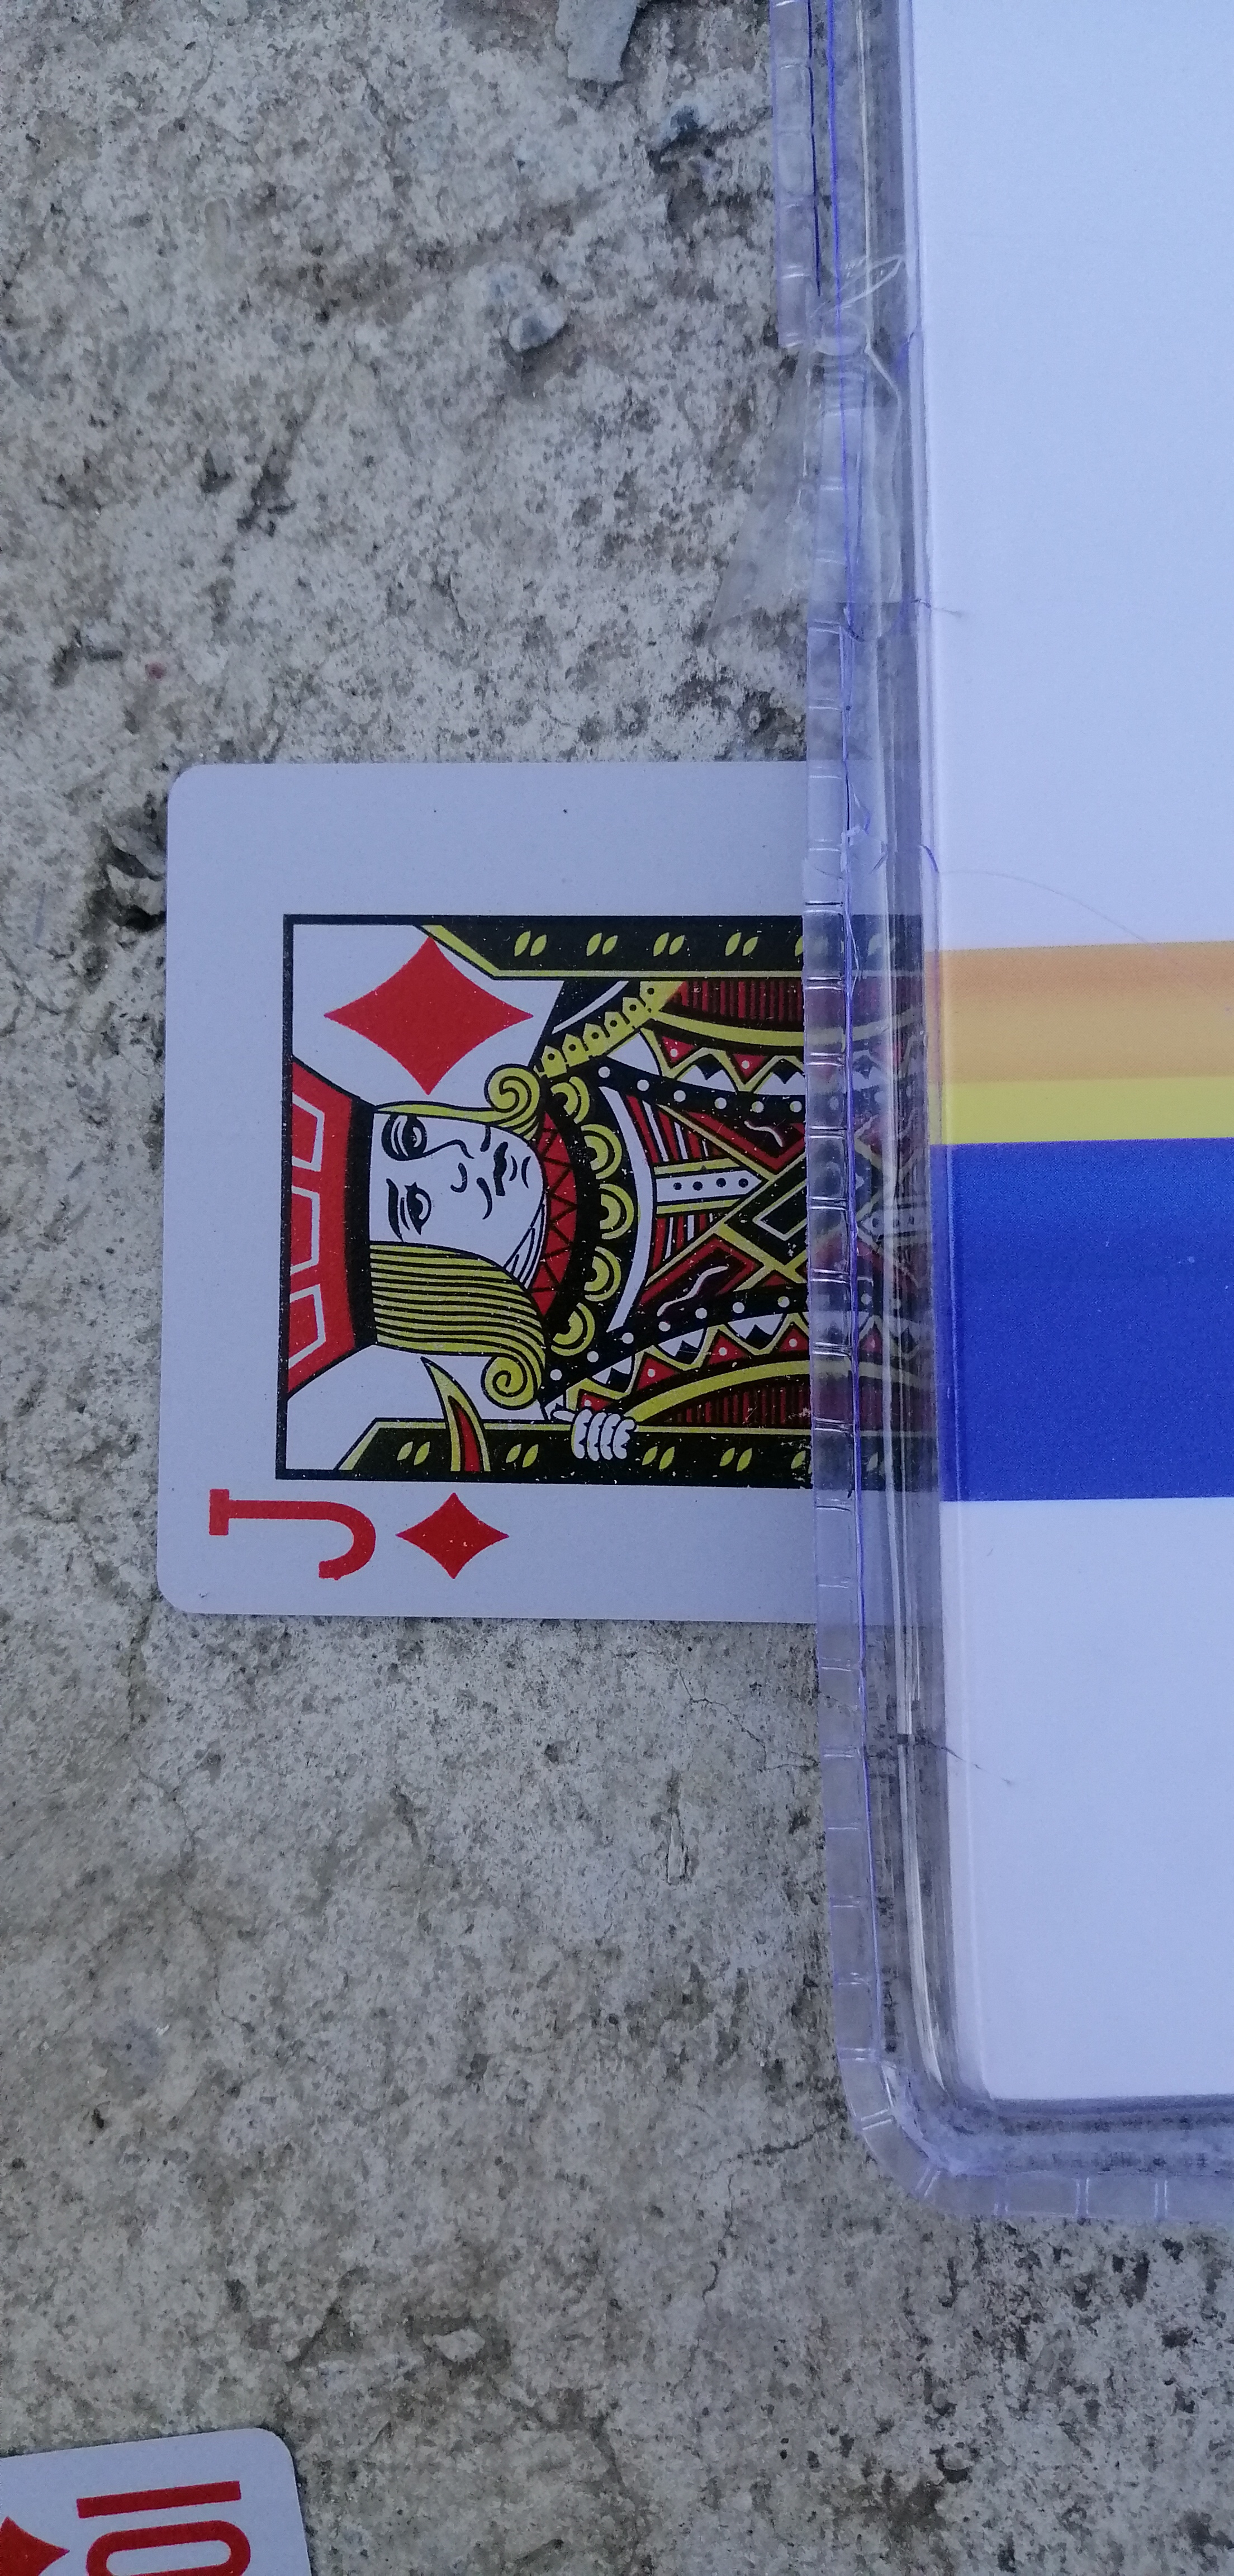jack: (125, 723, 958, 1672)
ten: (0, 2417, 352, 2576)
